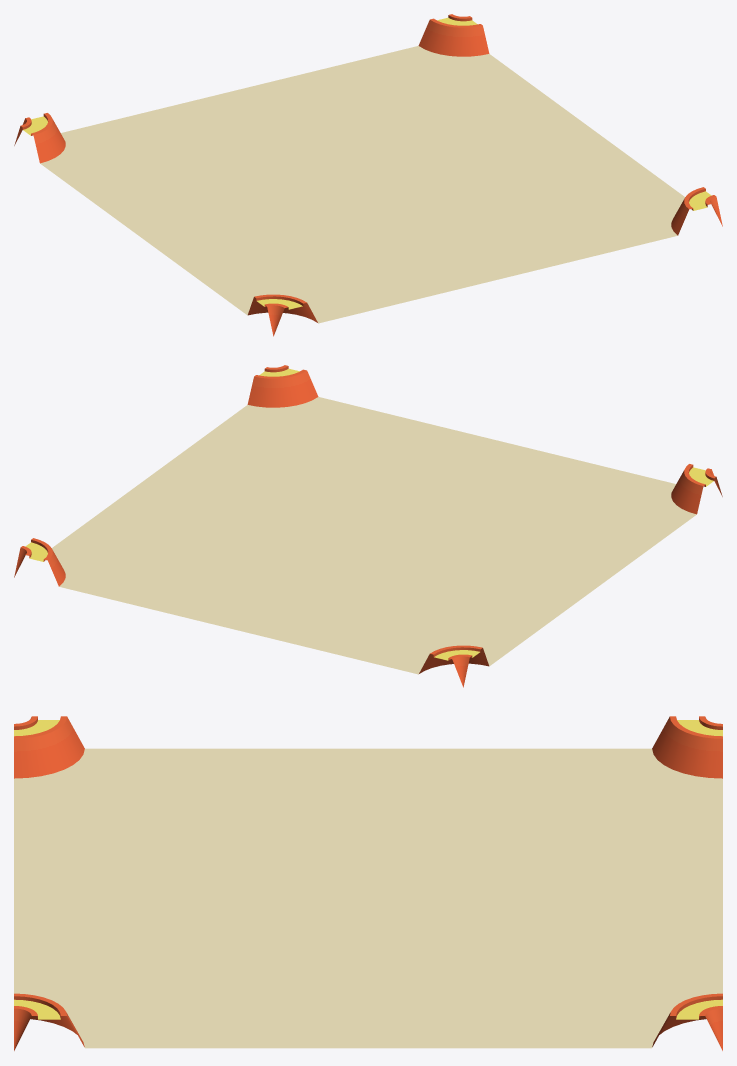
The model's file is sm_path_futuristic_crossing.fbx.
3 views of the same model, one above another, from view 1: azimuth 30°, elevation 25°; view 2: azimuth 150°, elevation 25°; view 3: azimuth 270°, elevation 25° (orthographic). The views are drawn at different scales.
Visible parts, largest first — view 1: sm_path_futuristic_crossing; view 2: sm_path_futuristic_crossing; view 3: sm_path_futuristic_crossing.
Boxes of the visible parts, x1,y1,x2,y2 form: sm_path_futuristic_crossing: [14, 14, 722, 336]; sm_path_futuristic_crossing: [14, 365, 722, 687]; sm_path_futuristic_crossing: [14, 716, 722, 1050].
Size of the model in its own units: 300 by 300 by 16.6.
